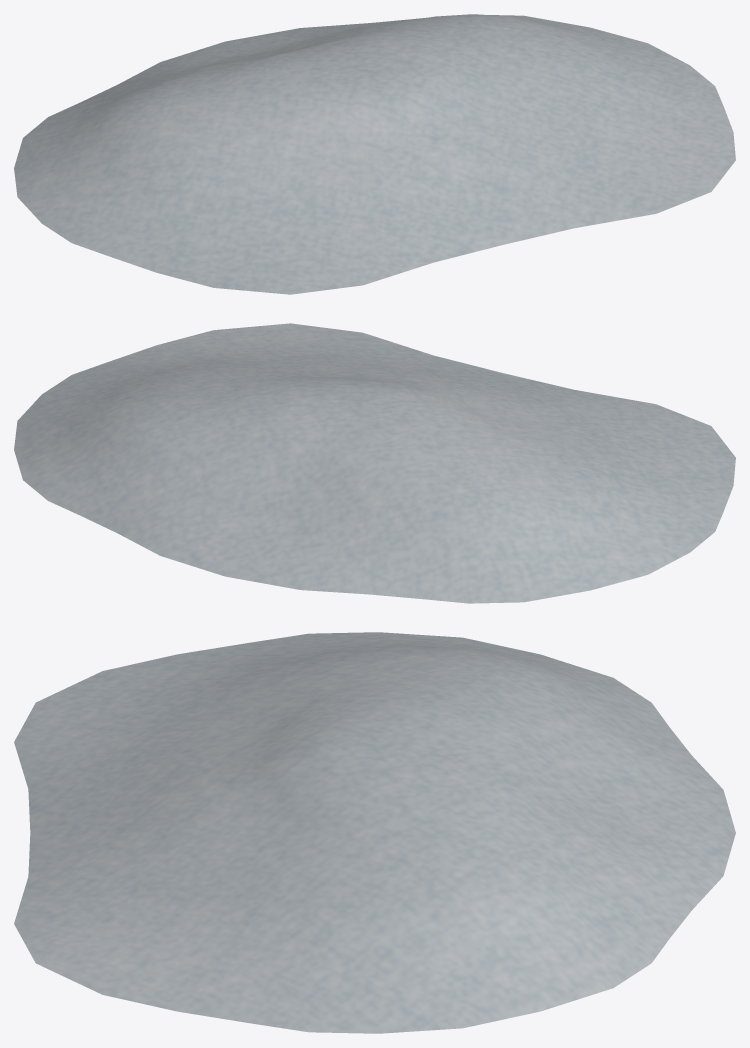
File: sb_obj_outdoor051_SnowPuddleC.fbx
3 views of the same model, one above another, from view 1: azimuth 30°, elevation 25°; view 2: azimuth 150°, elevation 25°; view 3: azimuth 270°, elevation 25° (orthographic). The views are drawn at different scales.
Parts seen in each view (by area): view 1: sb_obj_outdoor051_SnowPuddleC; view 2: sb_obj_outdoor051_SnowPuddleC; view 3: sb_obj_outdoor051_SnowPuddleC.
Boxes of the visible parts, left/top/right/bottom form: sb_obj_outdoor051_SnowPuddleC: left=14, top=14, right=735, bottom=294; sb_obj_outdoor051_SnowPuddleC: left=14, top=323, right=735, bottom=603; sb_obj_outdoor051_SnowPuddleC: left=14, top=632, right=735, bottom=1033.
Size of the model in its own units: 2.62 by 0.2716 by 1.99.
Materials: 1 (1 with a texture image).
